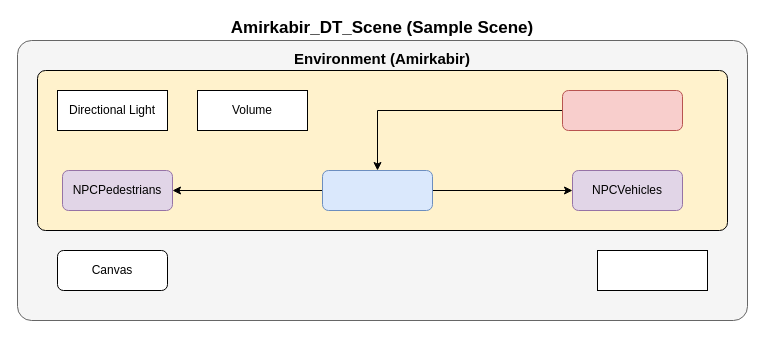
Image size: 765x338. Some labels were removed from this diagram. The shapes that lost their labels are listed below. From the top down, each one's centre as x and y in pixels, then its label:
point 622,110: DetectionSubscriber
point 377,190: SpawnPoint
point 652,270: MainCamera
